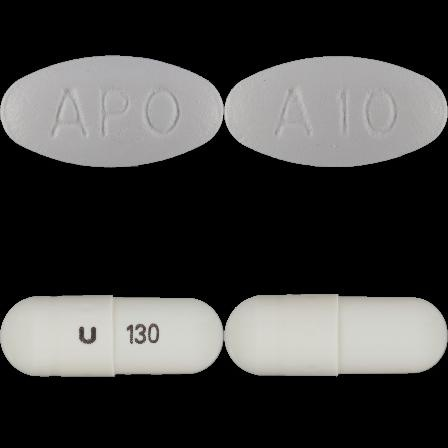53808-0959: (0, 0, 224, 224)
